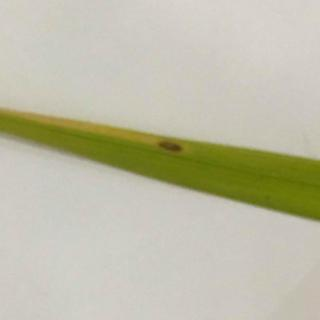Blast: (148, 129, 197, 164)
